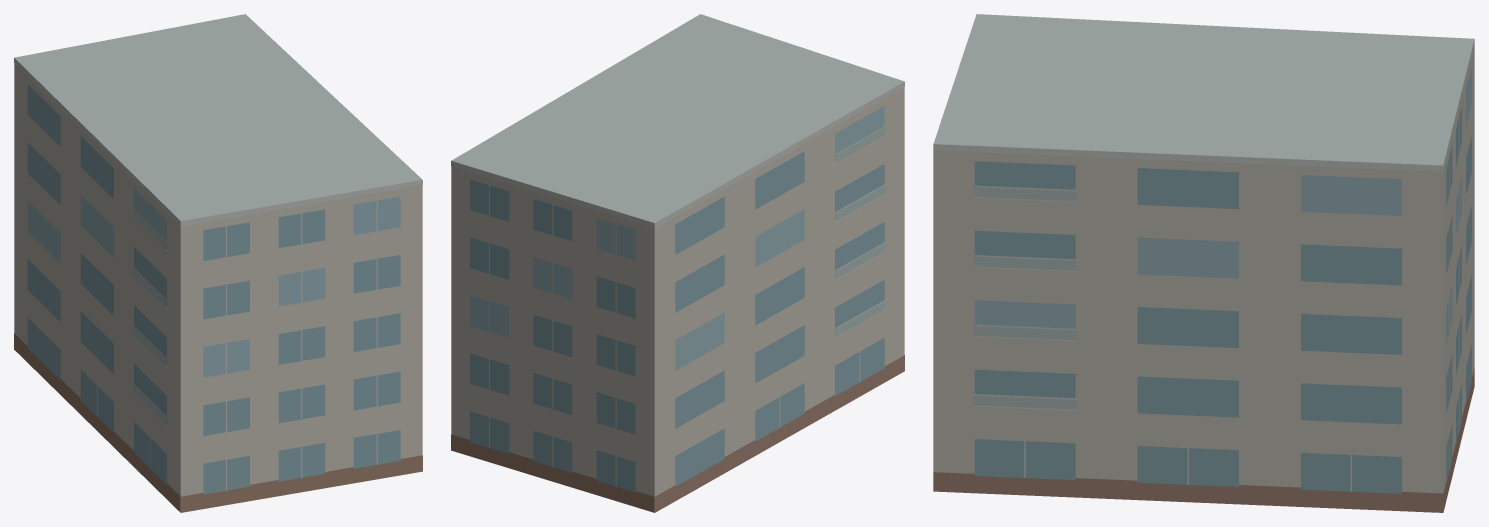
File: survey-upis-32823305.glb
3 renders of one model, left to right at view 1: azimuth 30°, elevation 25°; view 2: azimuth 150°, elevation 25°; view 3: azimuth 270°, elevation 25°, orthographic. The views are drawn at different scales.
Parts seen in each view (by area): view 1: survey-upis-32823305.tmp; view 2: survey-upis-32823305.tmp; view 3: survey-upis-32823305.tmp.
Part boxes in pixels (x1,y1,x2,y2): survey-upis-32823305.tmp: (14, 14, 422, 512); survey-upis-32823305.tmp: (451, 14, 904, 512); survey-upis-32823305.tmp: (933, 14, 1474, 512).
Bounding box in the file's own units: 12.17 × 13 × 18.37.
